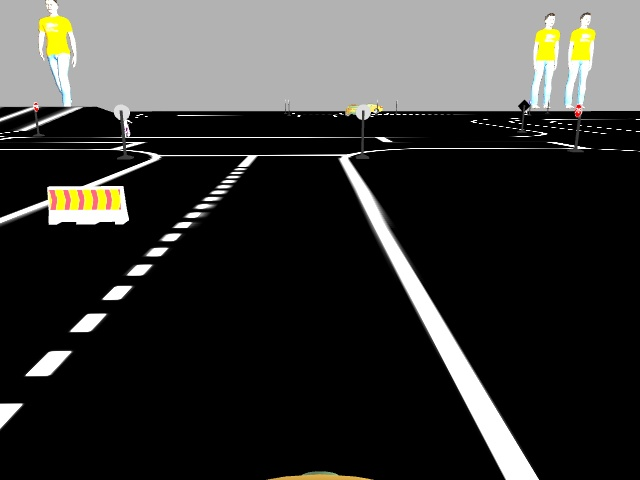ClosedRoadStand: (47, 184, 126, 221)
